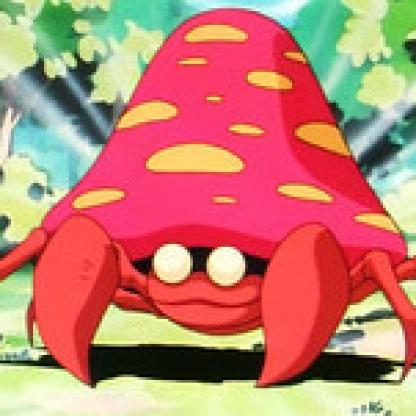Parasect: (12, 12, 414, 414)
